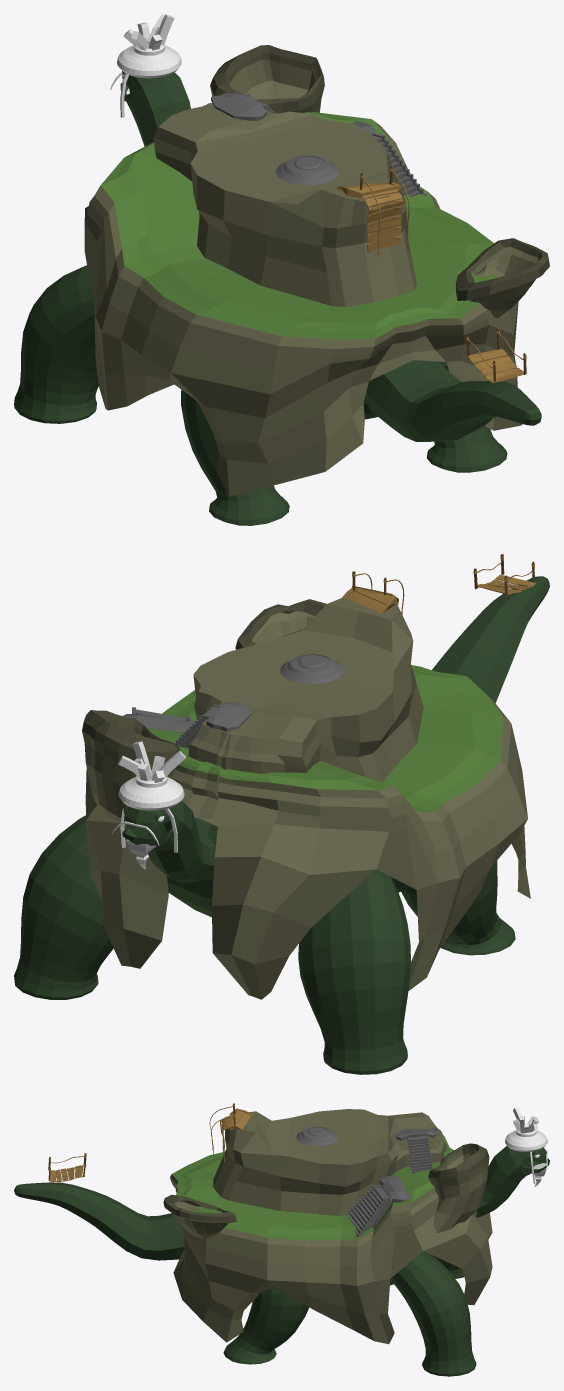
Rendered from ile-tortue_jean-marieG-v2.fbx.
3 views of the same model, one above another, from view 1: azimuth 30°, elevation 25°; view 2: azimuth 150°, elevation 25°; view 3: azimuth 270°, elevation 25° (orthographic). The views are drawn at different scales.
Parts seen in each view (by area): view 1: carapace.004, patteAvant.009, queue.009, patteArriere.009, geyser-avant.001, geyser-arriere.001, tete.010, pont.007, Sphere.003, spawn.008, fin-pont.003, escaliers.010 (+1 smaller); view 2: carapace.004, patteAvant.009, queue.009, geyser-avant.001, tete.010, patteArriere.009, geyser-arriere.001, Sphere.003, coprs.009, spawn.008, escaliers.010, escaliers.012 (+2 smaller); view 3: carapace.004, patteAvant.009, queue.009, geyser-avant.001, patteArriere.009, tete.010, escaliers.012, geyser-arriere.001, escaliers.010, Sphere.003, spawn.008, fin-pont.003 (+2 smaller).
Part boxes in pixels (bbox=[...]): carapace.004: bbox=[84, 103, 522, 496]; patteAvant.009: bbox=[14, 265, 98, 423]; queue.009: bbox=[365, 360, 541, 441]; patteArriere.009: bbox=[181, 390, 507, 525]; geyser-avant.001: bbox=[210, 45, 324, 113]; geyser-arriere.001: bbox=[455, 238, 549, 318]; tete.010: bbox=[120, 71, 190, 146]; pont.007: bbox=[359, 166, 409, 255]; Sphere.003: bbox=[117, 44, 181, 78]; spawn.008: bbox=[275, 155, 339, 185]; fin-pont.003: bbox=[466, 328, 526, 382]; escaliers.010: bbox=[211, 93, 275, 120]; carapace.004: bbox=[85, 597, 530, 999]; patteAvant.009: bbox=[14, 815, 410, 1074]; queue.009: bbox=[432, 576, 549, 702]; geyser-avant.001: bbox=[82, 710, 180, 822]; tete.010: bbox=[122, 800, 215, 883]; patteArriere.009: bbox=[401, 860, 515, 955]; geyser-arriere.001: bbox=[235, 599, 326, 649]; Sphere.003: bbox=[118, 770, 184, 810]; coprs.009: bbox=[167, 817, 410, 917]; spawn.008: bbox=[280, 653, 344, 683]; escaliers.010: bbox=[173, 702, 251, 749]; escaliers.012: bbox=[122, 707, 194, 732]; carapace.004: bbox=[170, 1109, 492, 1344]; patteAvant.009: bbox=[390, 1251, 476, 1376]; queue.009: bbox=[14, 1182, 184, 1260]; geyser-avant.001: bbox=[428, 1143, 489, 1232]; patteArriere.009: bbox=[223, 1287, 309, 1364]; tete.010: bbox=[476, 1146, 549, 1217]; escaliers.012: bbox=[345, 1175, 411, 1238]; geyser-arriere.001: bbox=[163, 1194, 236, 1239]; escaliers.010: bbox=[395, 1128, 436, 1174]; Sphere.003: bbox=[505, 1129, 547, 1151]; spawn.008: bbox=[296, 1126, 338, 1146]; fin-pont.003: bbox=[50, 1153, 86, 1182].
Bounding box in the file's own units: 1030 × 848 × 1921.
